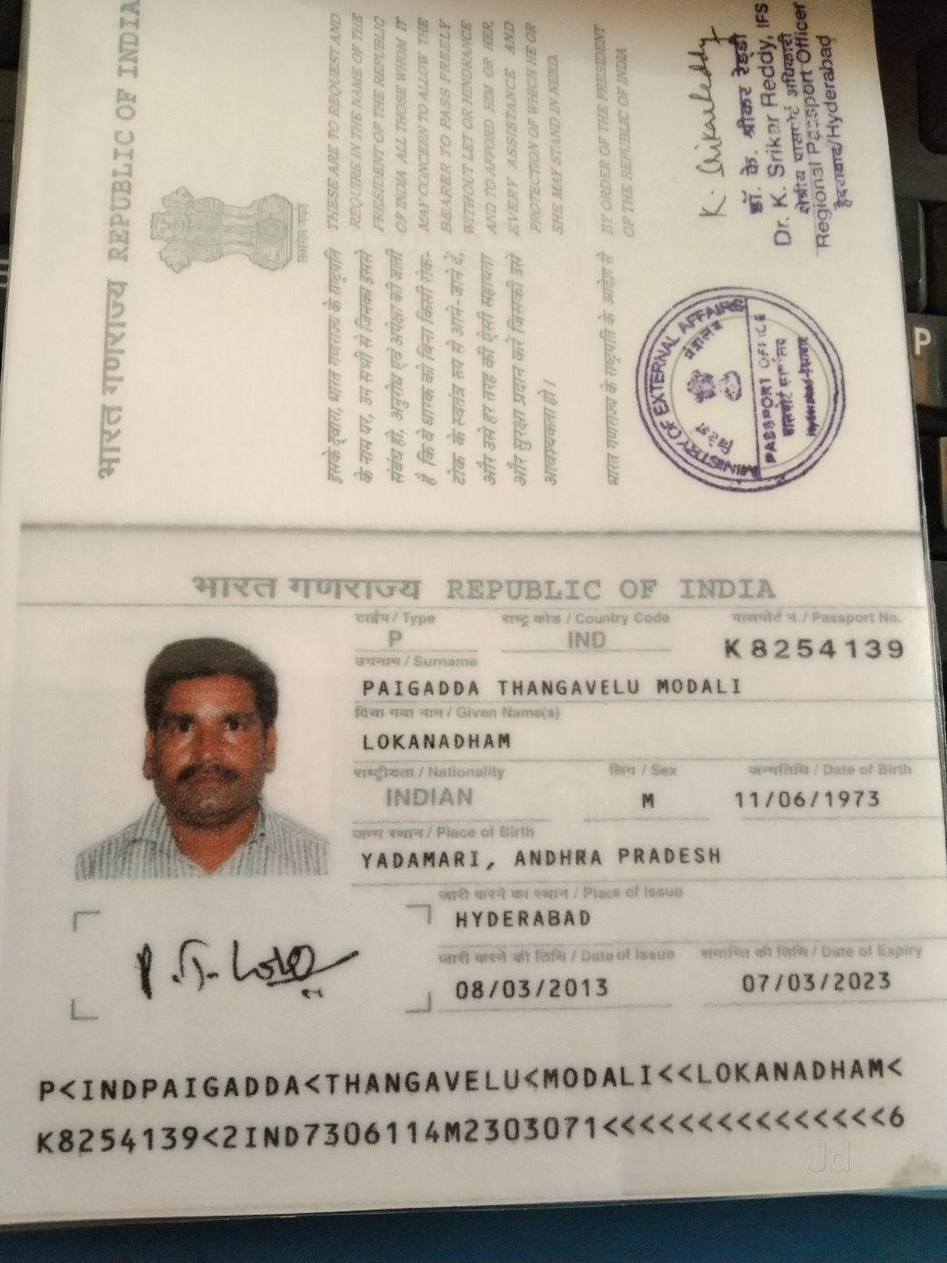DOB: (724, 778, 899, 817)
Surname: (360, 669, 764, 702)
country_code: (557, 621, 624, 664)
date_of_expiry: (730, 962, 897, 1003)
date_of_issue: (437, 965, 621, 1015)
details: (21, 1050, 934, 1162)
name: (353, 723, 522, 762)
nationality: (363, 781, 499, 820)
passport_no: (717, 624, 908, 669)
photo: (76, 638, 319, 875)
place_of_birth: (354, 841, 734, 872)
place_of_issue: (448, 900, 597, 946)
sex: (625, 784, 670, 815)
sign: (114, 918, 366, 1011)
type: (376, 626, 416, 657)
